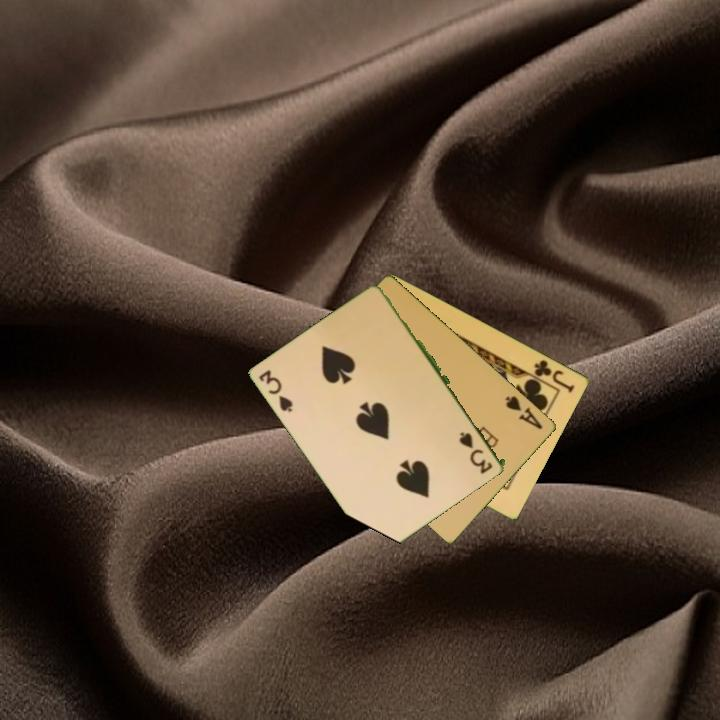3s: (255, 366, 296, 415), (456, 428, 496, 475)
As: (502, 392, 546, 432)
Jc: (531, 356, 578, 395)
